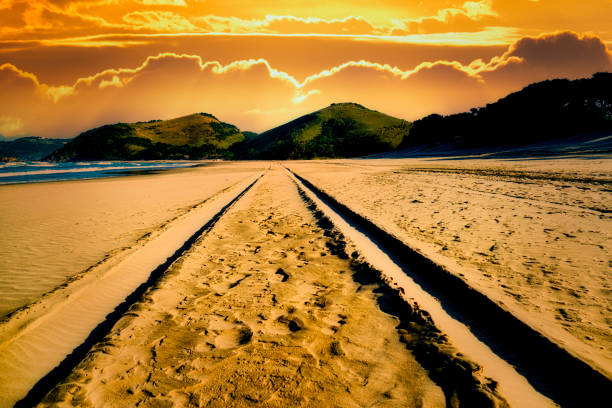vehicle_track: (288, 169, 611, 406), (15, 175, 261, 406), (293, 179, 509, 407)
